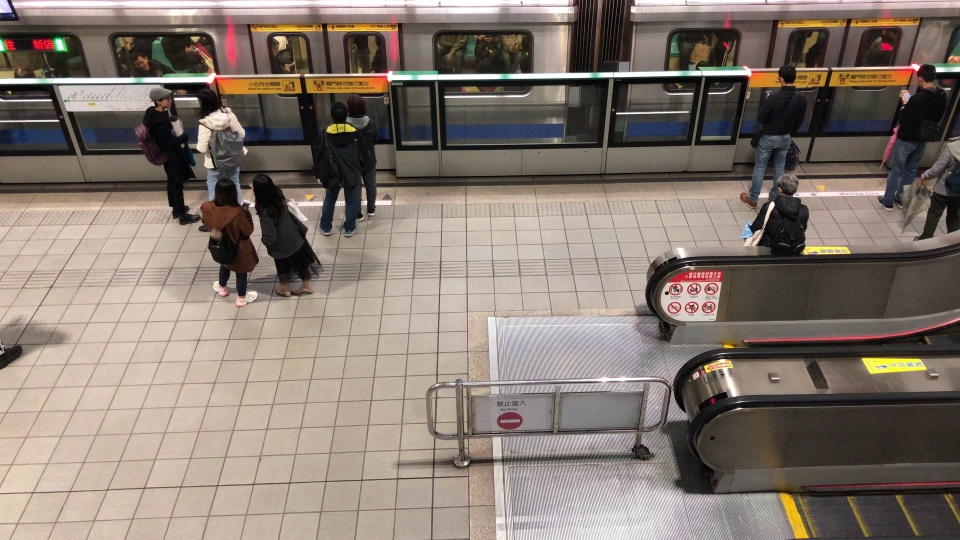person_head: (255, 172, 283, 208), (210, 178, 243, 208), (142, 87, 174, 113), (771, 171, 800, 196), (198, 86, 222, 113), (915, 63, 939, 89), (775, 65, 799, 89), (324, 100, 349, 123), (349, 100, 369, 125)
person_vbox: (115, 85, 203, 228), (870, 63, 945, 213), (733, 66, 807, 206), (186, 179, 264, 308), (247, 172, 324, 302), (185, 86, 251, 210), (307, 98, 364, 241), (900, 129, 960, 244), (735, 173, 812, 254), (348, 96, 379, 222)
